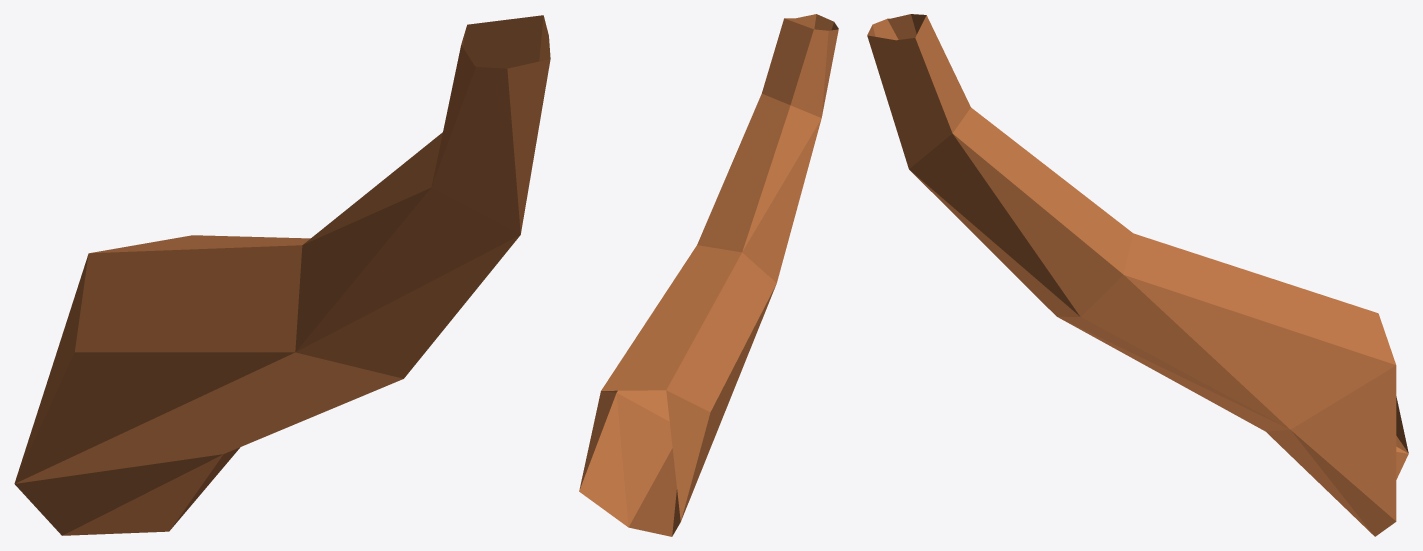
Rendered from treebranch_anchored.glb.
3 renders of one model, left to right at view 1: azimuth 30°, elevation 25°; view 2: azimuth 150°, elevation 25°; view 3: azimuth 270°, elevation 25°, orthographic. The views are drawn at different scales.
Visible parts, largest first — view 1: Cylinder; view 2: Cylinder; view 3: Cylinder.
Boxes of the visible parts, x1,y1,x2,y2 form: Cylinder: (14, 15, 550, 535); Cylinder: (579, 14, 838, 536); Cylinder: (867, 14, 1408, 536).
Bounding box in the file's own units: 0.1536 × 0.5156 × 0.4963.
Materials: 1 (1 with a texture image).
